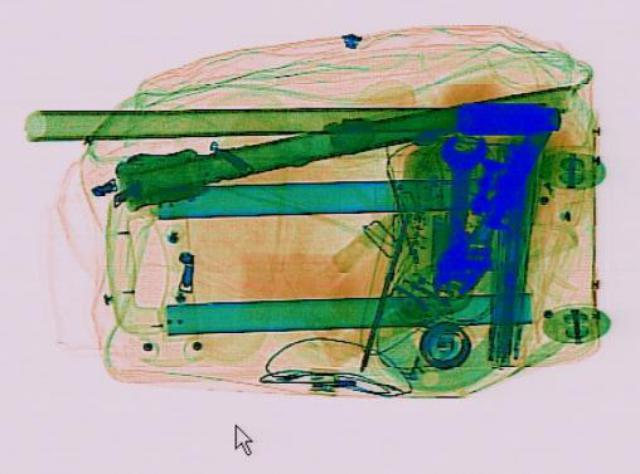Wrench: (429, 133, 489, 237)
